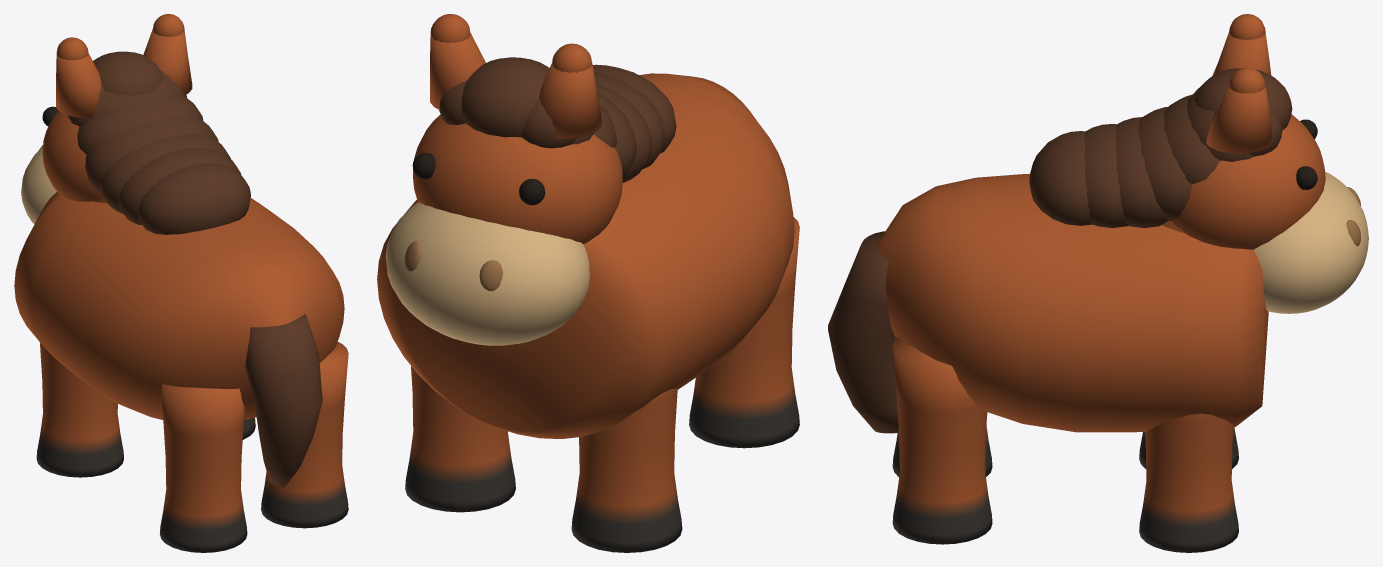
3 views of the same model, side by side, from view 1: azimuth 30°, elevation 25°; view 2: azimuth 150°, elevation 25°; view 3: azimuth 270°, elevation 25° (orthographic). The views are drawn at different scales.
Size of the model in its own units: 0.96 by 1.5 by 1.62.
Materials: 1 (1 with a texture image).
